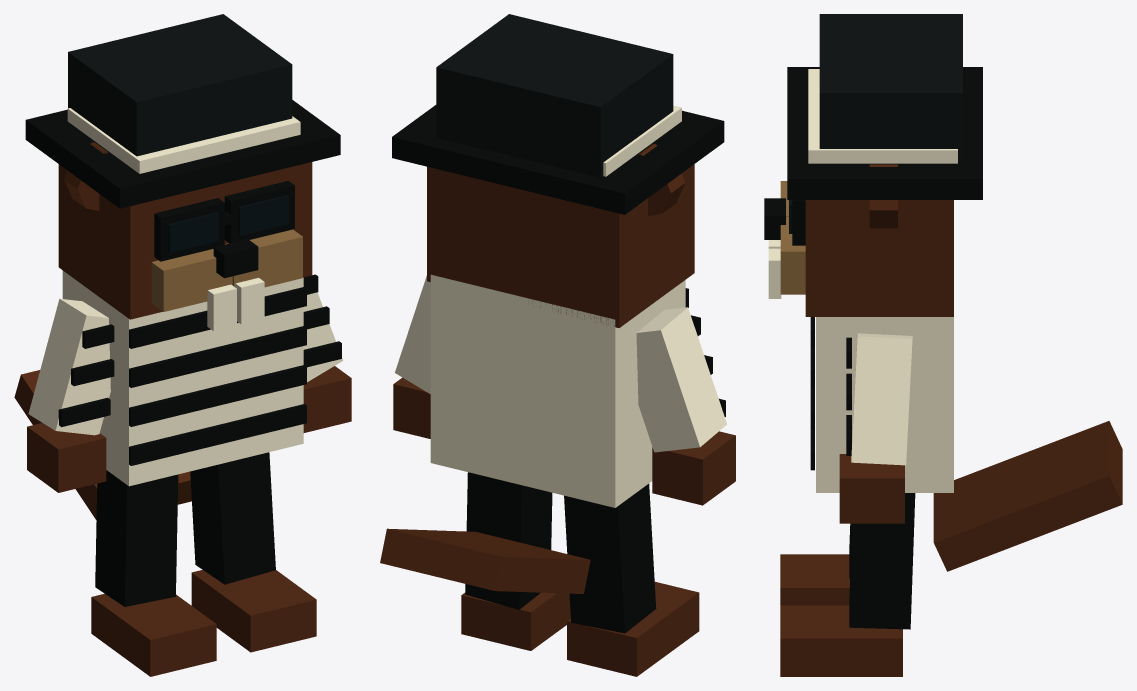
File: BanditoBobritto_Mini.glb
3 views of the same model, side by side, from view 1: azimuth 30°, elevation 25°; view 2: azimuth 150°, elevation 25°; view 3: azimuth 270°, elevation 25° (orthographic). The views are drawn at different scales.
Parts seen in each view (by area): view 1: BanditoBobritto_Mini; view 2: BanditoBobritto_Mini; view 3: BanditoBobritto_Mini.
Boxes of the visible parts, x1=… form: BanditoBobritto_Mini: x1=14, y1=14, x2=351, y2=676; BanditoBobritto_Mini: x1=380, y1=14, x2=735, y2=676; BanditoBobritto_Mini: x1=764, y1=14, x2=1122, y2=676.
Bounding box in the file's own units: 1.1 × 2 × 1.12.
Materials: 1 (1 with a texture image).
